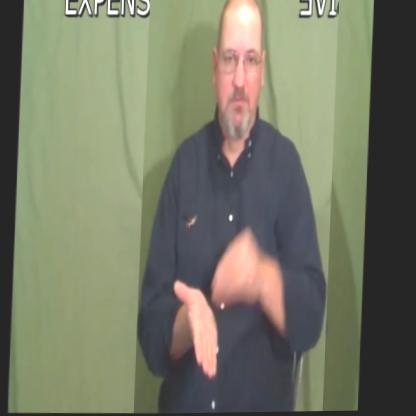Expensive: (135, 0, 338, 414)
